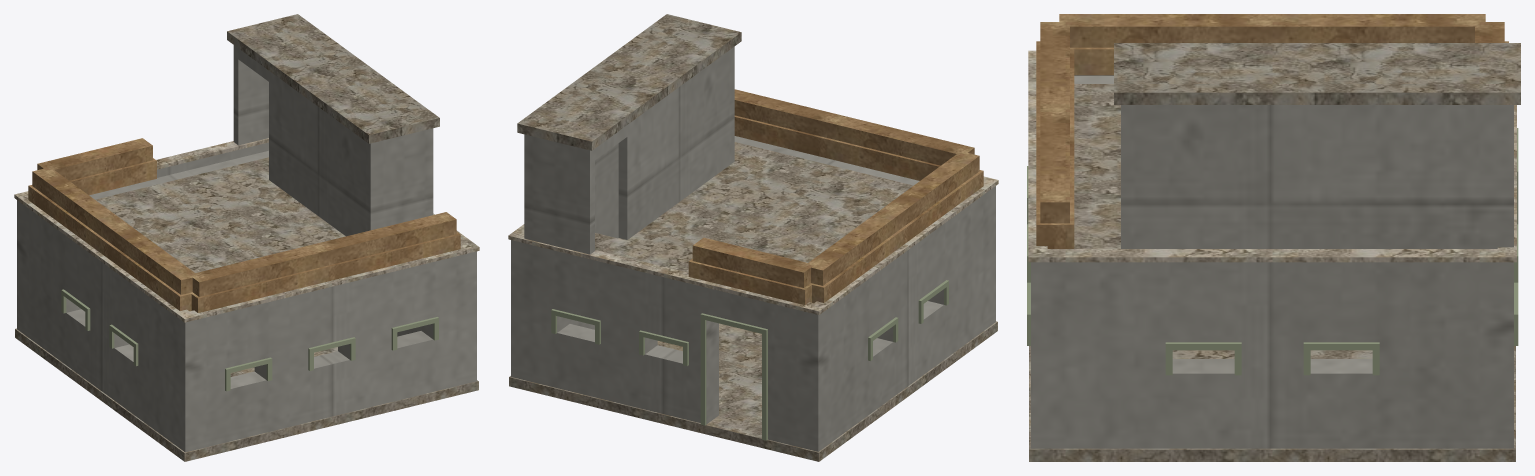
Rendered from mb-pillbox.garrison-v3.lod1.glb.
3 views of the same model, side by side, from view 1: azimuth 30°, elevation 25°; view 2: azimuth 150°, elevation 25°; view 3: azimuth 270°, elevation 25° (orthographic). The views are drawn at different scales.
Parts seen in each view (by area): view 1: mb-pillbox; view 2: mb-pillbox; view 3: mb-pillbox.
Part boxes in pixels (box(x1,y1,x2,y2)): mb-pillbox: box(14, 14, 479, 461); mb-pillbox: box(508, 14, 998, 461); mb-pillbox: box(1027, 14, 1520, 461).
Size of the model in its own units: 7.12 by 5.8 by 7.16.
Materials: 4 (3 with a texture image).
